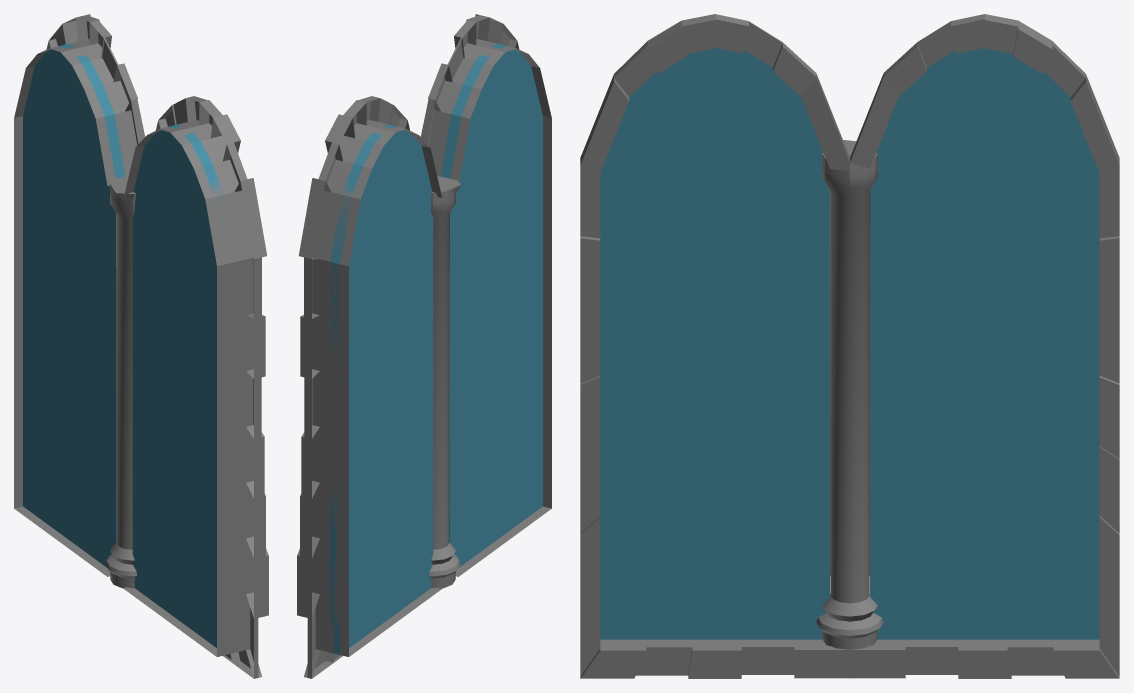
Rendered from FenêtreCaro.glb.
The picture shows the model from 3 angles, left to right: view 1: azimuth 30°, elevation 25°; view 2: azimuth 150°, elevation 25°; view 3: azimuth 270°, elevation 25°; orthographic projection. The views are drawn at different scales.
Parts seen in each view (by area): view 1: FenetreCaro; view 2: FenetreCaro; view 3: FenetreCaro.
Part boxes in pixels (x1,y1,x2,y2): FenetreCaro: (14,14,268,678); FenetreCaro: (297,14,551,678); FenetreCaro: (580,14,1119,678).
Size of the model in its own units: 0.114 by 1.16 by 0.8587.
